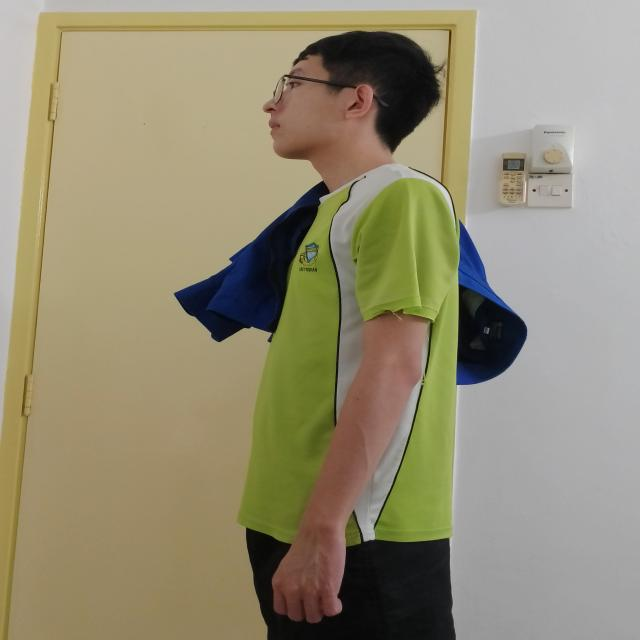person_without_labcoat: (176, 31, 526, 640)
